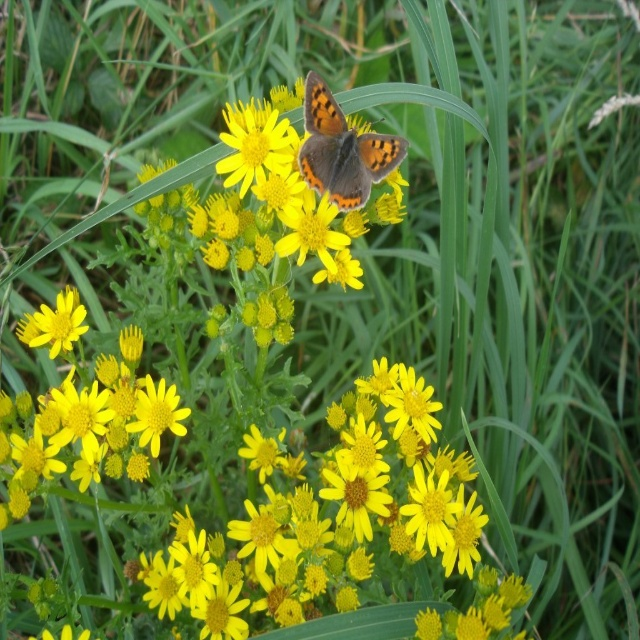Butterfly: (287, 70, 409, 221)
